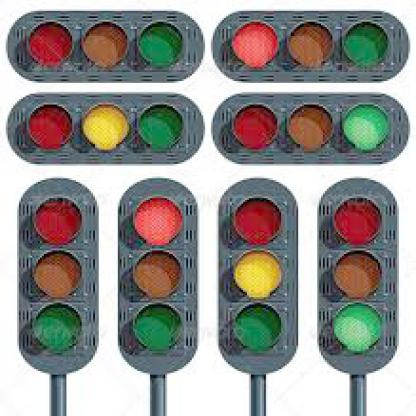traffic-light: (110, 178, 203, 373), (215, 176, 304, 376), (317, 178, 407, 375), (15, 178, 101, 373), (213, 90, 408, 166), (216, 9, 411, 83), (11, 90, 200, 166), (11, 11, 196, 79)
